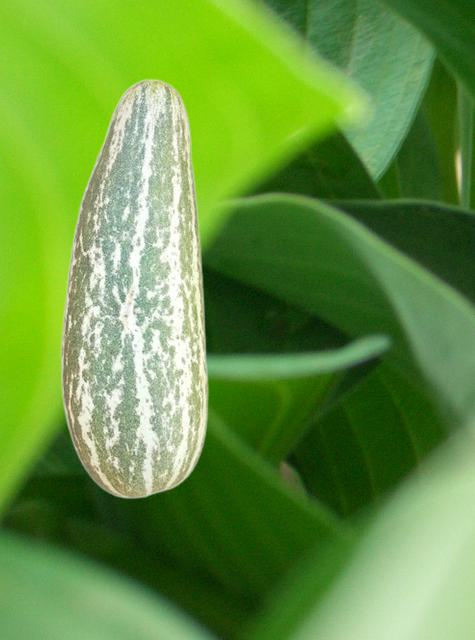cucumber: (60, 78, 208, 498)
